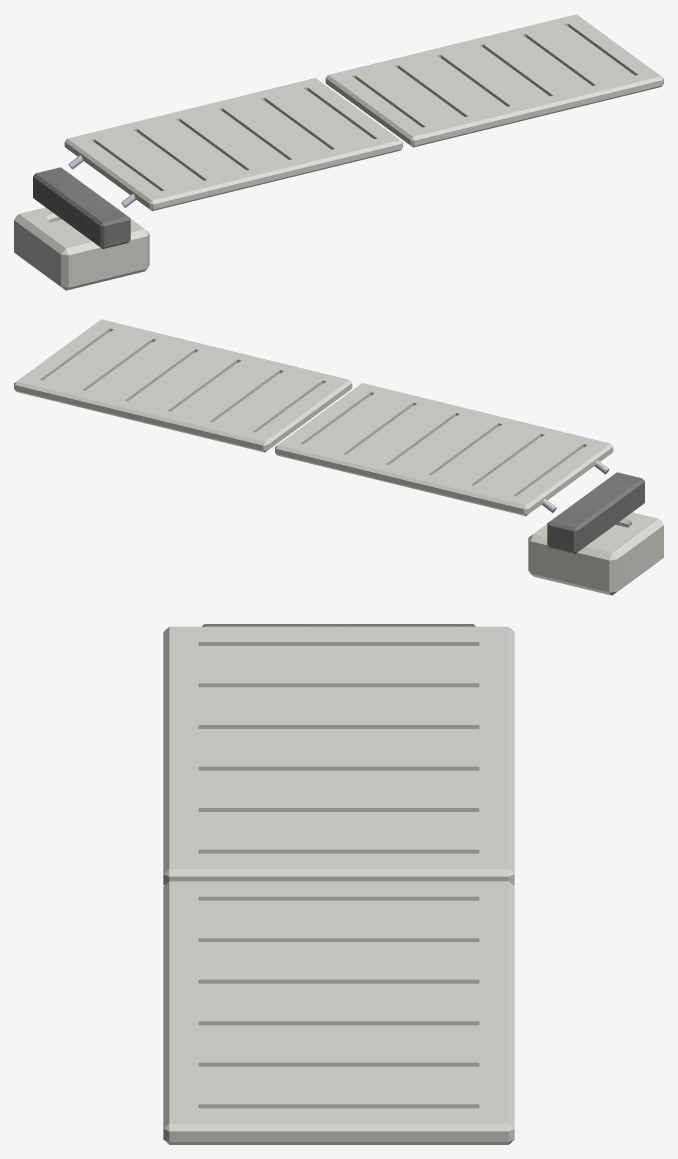
Rendered from ax_power_05_deployable_radiator_s_deployed.glb.
3 renders of one model, top to bottom at view 1: azimuth 30°, elevation 25°; view 2: azimuth 150°, elevation 25°; view 3: azimuth 270°, elevation 25°, orthographic. The views are drawn at different scales.
Visible parts, largest first — view 1: panel_2, panel_1, mount_block, hinge_base; view 2: panel_2, panel_1, mount_block, hinge_base; view 3: panel_2, panel_1, hinge_base.
Boxes of the visible parts, x1=… form: panel_2: x1=325, y1=14, x2=663, y2=147; panel_1: x1=64, y1=78, x2=402, y2=210; mount_block: x1=14, y1=207, x2=149, y2=290; hinge_base: x1=33, y1=167, x2=130, y2=248; panel_2: x1=14, y1=319, x2=352, y2=452; panel_1: x1=275, y1=383, x2=613, y2=515; mount_block: x1=528, y1=512, x2=663, y2=595; hinge_base: x1=547, y1=472, x2=644, y2=553; panel_2: x1=163, y1=881, x2=514, y2=1144; panel_1: x1=163, y1=626, x2=514, y2=885; hinge_base: x1=202, y1=624, x2=475, y2=626.
Size of the model in its own units: 2.31 by 0.33 by 0.6.
Materials: 3 (2 with a texture image).
